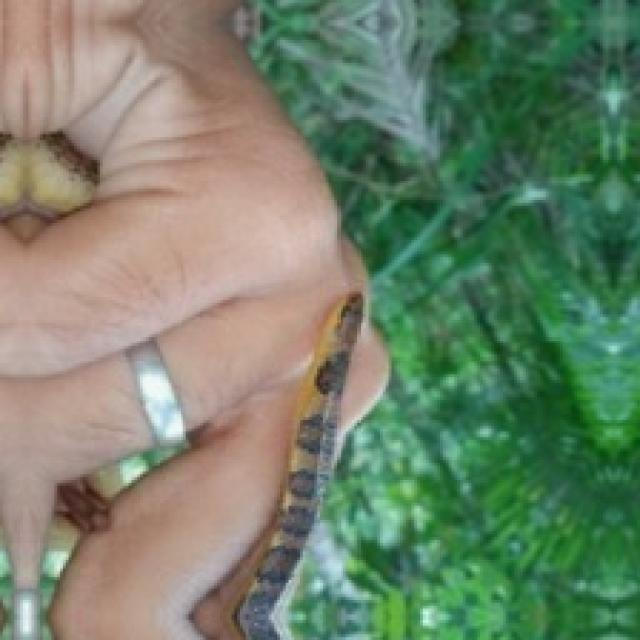luzon dwarf snake: (0, 129, 374, 637)
